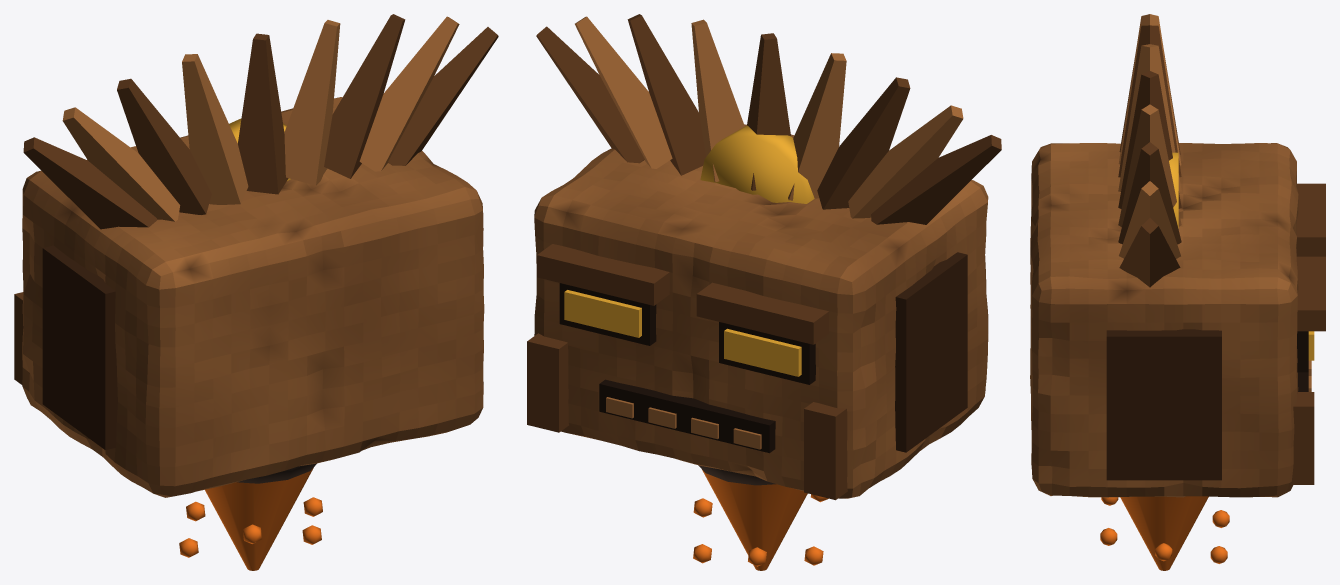
The model's file is golem_head_free.glb.
The picture shows the model from 3 angles, left to right: view 1: azimuth 30°, elevation 25°; view 2: azimuth 150°, elevation 25°; view 3: azimuth 270°, elevation 25°; orthographic projection. The views are drawn at different scales.
Visible parts, largest first — view 1: golem_head_free; view 2: golem_head_free; view 3: golem_head_free.
Boxes of the visible parts, x1,y1,x2,y2 form: golem_head_free: (14,14,498,570); golem_head_free: (527,14,1001,570); golem_head_free: (1030,14,1325,570).
Bounding box in the file's own units: 1.75 × 1.89 × 1.03.
